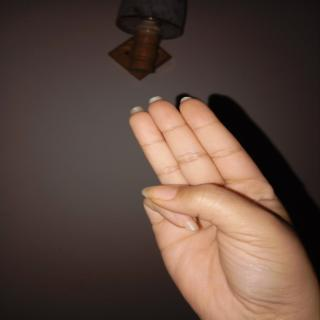THA: (120, 89, 319, 320)
